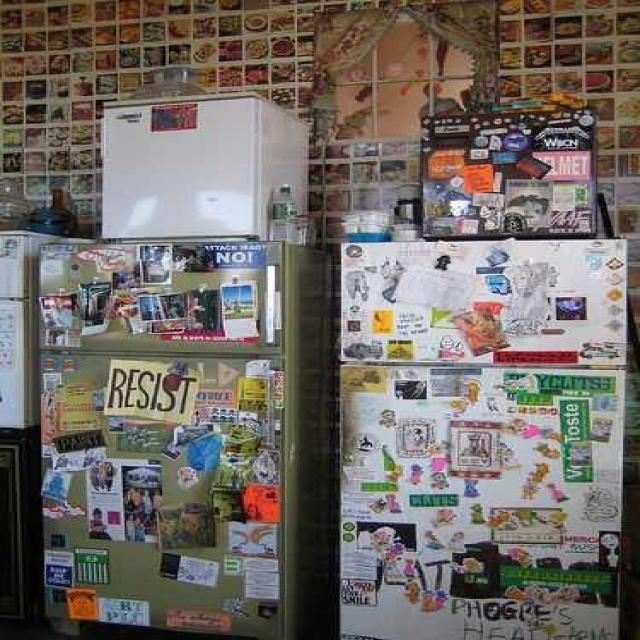refrigerator: (338, 237, 628, 640), (38, 241, 294, 636), (102, 92, 264, 241)
